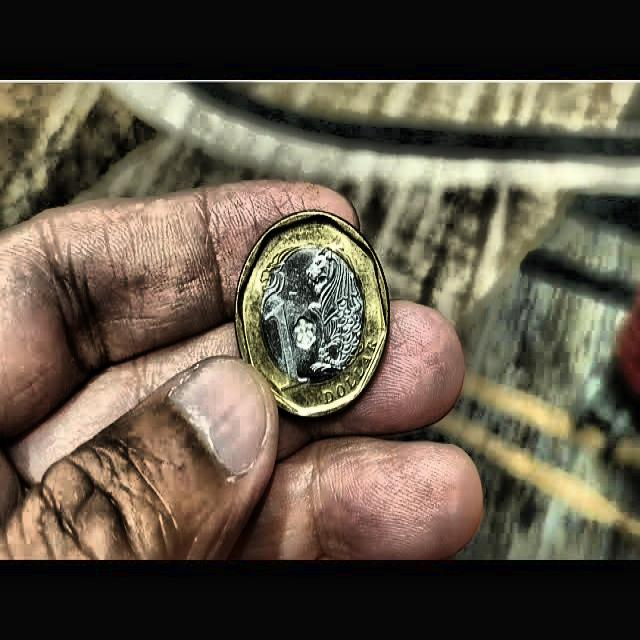coin: (235, 213, 389, 417)
